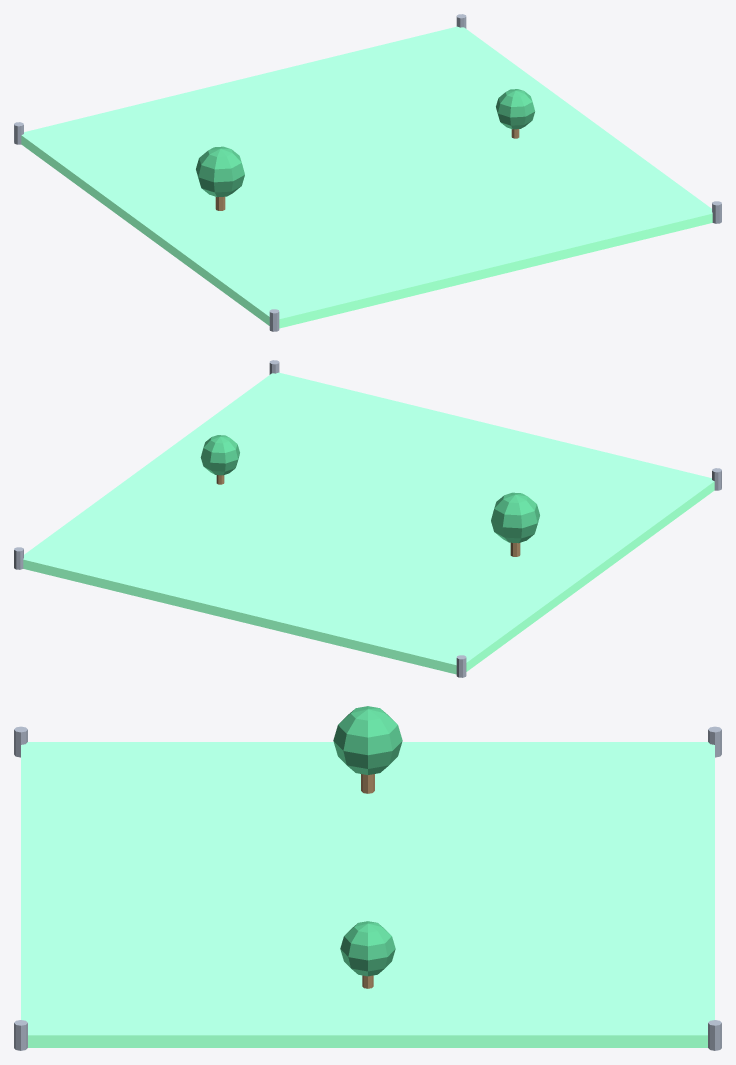
The model's file is central_park.glb.
The picture shows the model from 3 angles, top to bottom: view 1: azimuth 30°, elevation 25°; view 2: azimuth 150°, elevation 25°; view 3: azimuth 270°, elevation 25°; orthographic projection. The views are drawn at different scales.
Visible parts, largest first — view 1: central_park; view 2: central_park; view 3: central_park.
Part boxes in pixels (box(x1,y1,x2,y2)): central_park: box(14, 14, 721, 331); central_park: box(14, 360, 721, 677); central_park: box(14, 706, 721, 1050).
Size of the model in its own units: 5.1 by 0.75 by 5.1.
